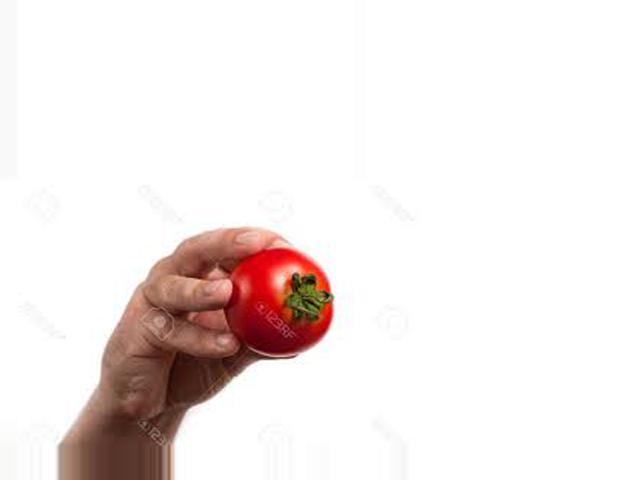tomato: (225, 248, 333, 356)
